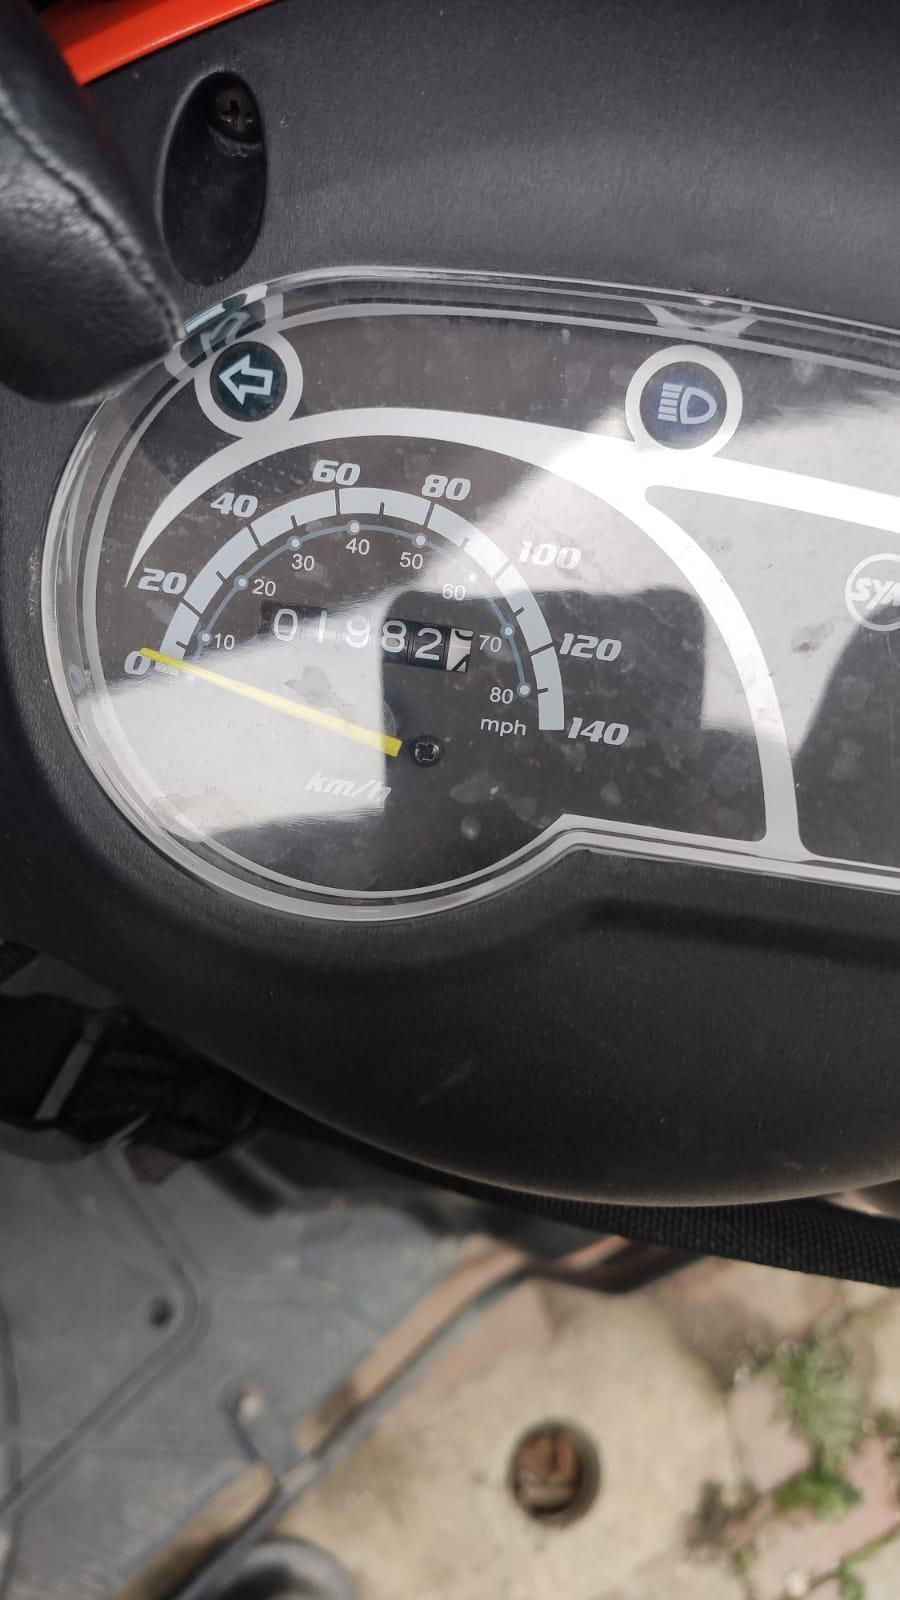0: (270, 605, 297, 646)
1: (311, 605, 331, 656)
2: (413, 624, 443, 668)
4: (446, 646, 473, 676)
8: (379, 616, 405, 658)
9: (340, 610, 373, 657)
odometer: (251, 597, 481, 678)
